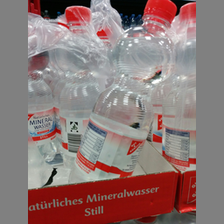water: (66, 2, 176, 180), (56, 6, 101, 170)
